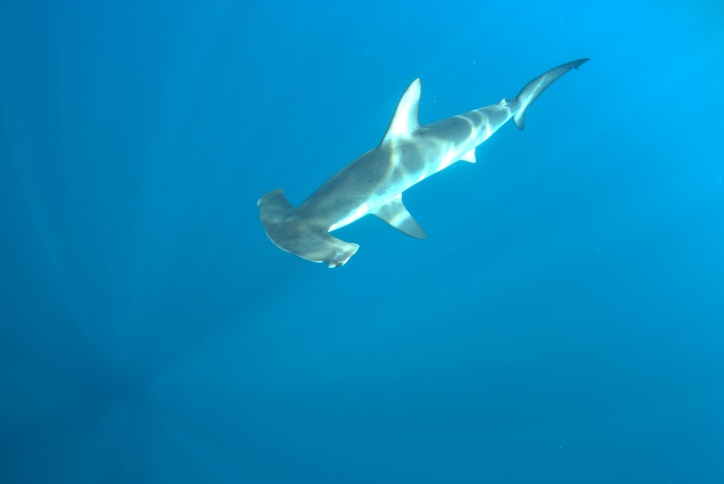Hammer: (224, 43, 605, 289)
